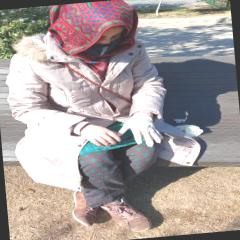gloved: (132, 111, 160, 148)
not-gloved: (79, 123, 121, 150)
